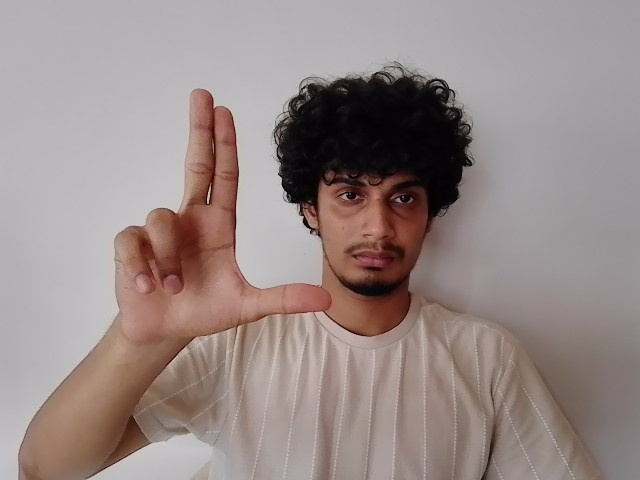no: (113, 83, 333, 326)
